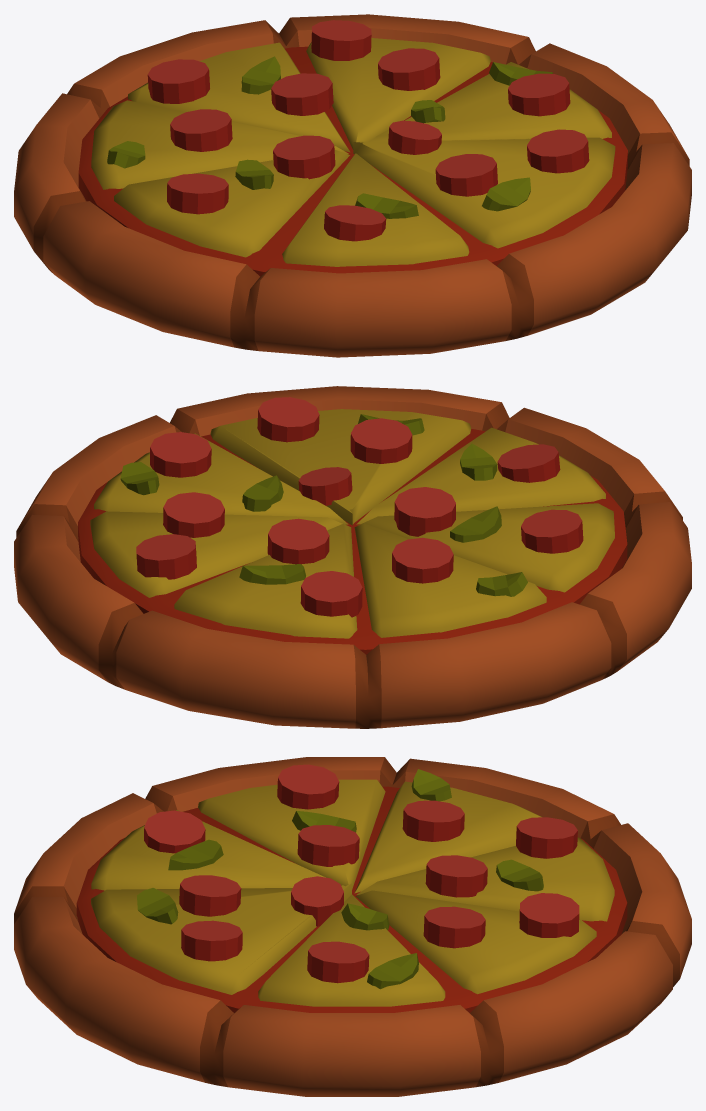
Rendered from pizza.fbx.
The picture shows the model from 3 angles, top to bottom: view 1: azimuth 30°, elevation 25°; view 2: azimuth 150°, elevation 25°; view 3: azimuth 270°, elevation 25°; orthographic projection.
Visible parts, largest first — view 1: Pizza01; view 2: Pizza01; view 3: Pizza01.
Part boxes in pixels (left/top/right/bottom): Pizza01: left=14, top=14, right=691, bottom=357; Pizza01: left=14, top=386, right=691, bottom=728; Pizza01: left=14, top=757, right=691, bottom=1096.
Bounding box in the file's own units: 1.05 × 1.06 × 0.167.
